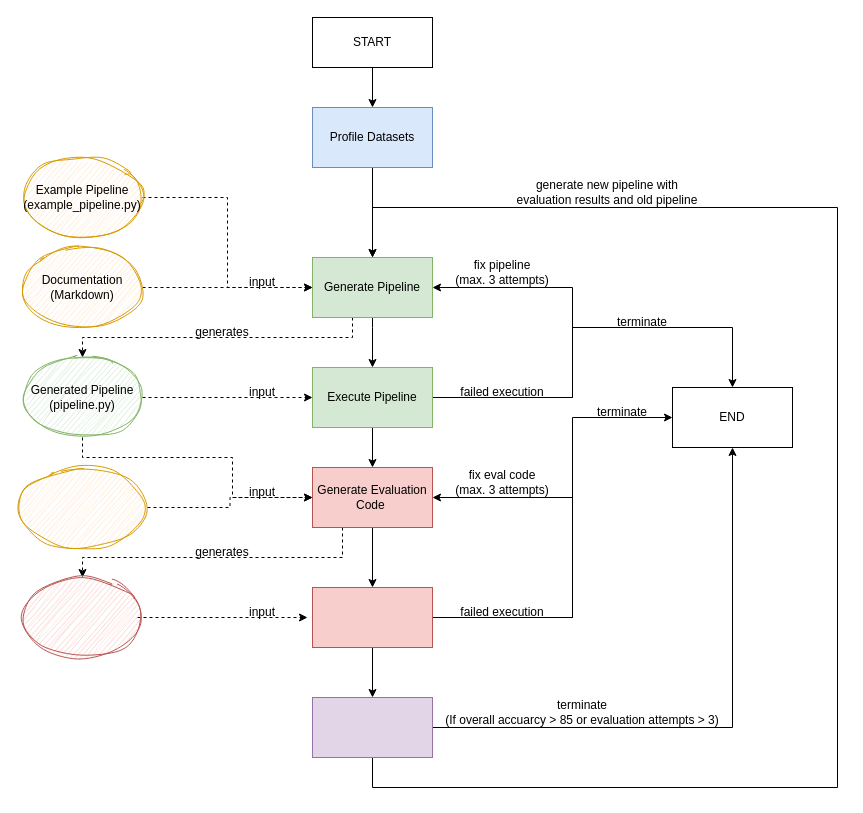
Image size: 863x813. Some labels were removed from this diagram. The centre of each missing label's shape, as x and y in pixels:
Evaluation Code (evaluation.py): the point at 82,617
Evaluation Decision: the point at 372,727
Example Evaluation (example_evalutaion.py): the point at 82,507
Execute Evaluation: the point at 372,617
